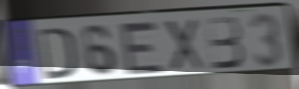3: (249, 9, 286, 70)
6: (81, 22, 119, 78)
B: (204, 14, 246, 71)
D: (36, 26, 78, 82)
E: (117, 20, 167, 77)
X: (162, 17, 206, 73)
